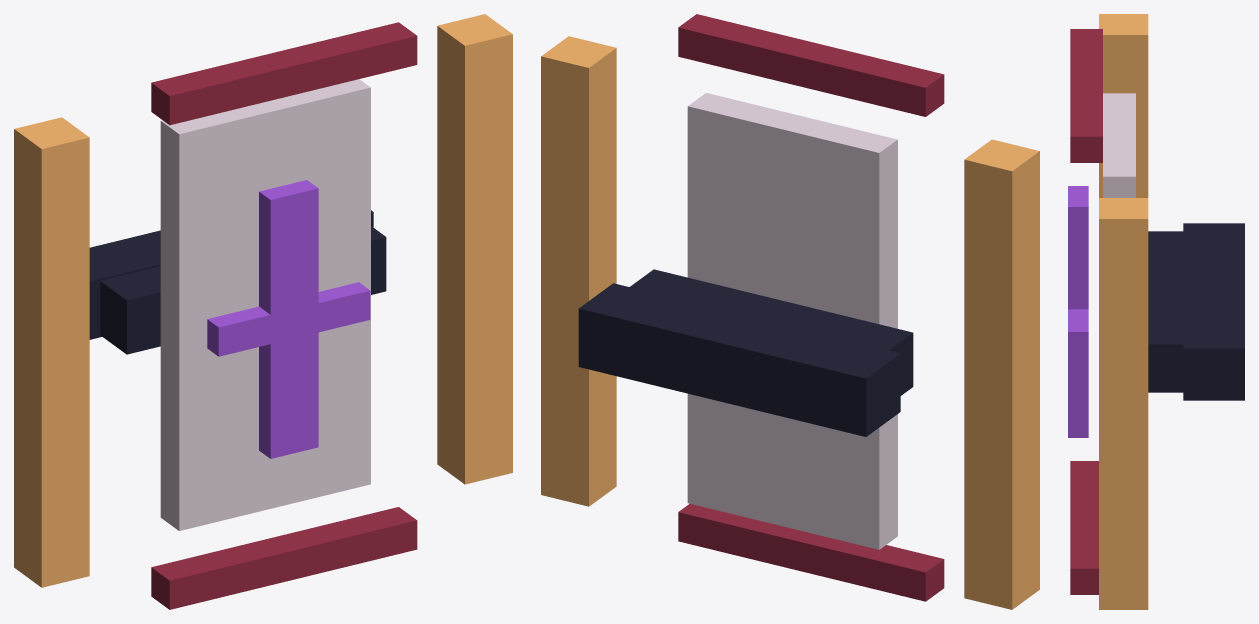
Rendered from KGB_CLASS_OnmyojiScroll_STATIC_DRAFT_v01.obj.
3 views of the same model, side by side, from view 1: azimuth 30°, elevation 25°; view 2: azimuth 150°, elevation 25°; view 3: azimuth 270°, elevation 25° (orthographic). The views are drawn at different scales.
Parts seen in each view (by area): view 1: part_2, part_3, part_4, part_7, part_5, part_6, part_1, part_8, part_9; view 2: part_2, part_3, part_4, part_9, part_5, part_6, part_1; view 3: part_4, part_9, part_1, part_3, part_5, part_7, part_6, part_2, part_8.
Boxes of the visible parts, x1=… form: part_2: x1=160, y1=79, x2=370, y2=530; part_3: x1=14, y1=117, x2=89, y2=587; part_4: x1=437, y1=14, x2=512, y2=484; part_7: x1=259, y1=180, x2=318, y2=458; part_5: x1=151, y1=22, x2=417, y2=125; part_6: x1=151, y1=507, x2=417, y2=609; part_1: x1=100, y1=226, x2=386, y2=354; part_8: x1=207, y1=282, x2=370, y2=356; part_9: x1=89, y1=210, x2=373, y2=339; part_2: x1=687, y1=93, x2=897, y2=549; part_3: x1=964, y1=139, x2=1039, y2=609; part_4: x1=541, y1=36, x2=616, y2=506; part_9: x1=578, y1=283, x2=900, y2=436; part_5: x1=678, y1=14, x2=944, y2=116; part_6: x1=678, y1=504, x2=944, y2=601; part_1: x1=630, y1=269, x2=913, y2=395; part_4: x1=1099, y1=198, x2=1148, y2=609; part_9: x1=1183, y1=223, x2=1244, y2=400; part_1: x1=1148, y1=231, x2=1183, y2=392; part_3: x1=1099, y1=14, x2=1148, y2=197; part_5: x1=1070, y1=29, x2=1102, y2=162; part_7: x1=1068, y1=186, x2=1088, y2=437; part_6: x1=1070, y1=461, x2=1098, y2=594; part_2: x1=1103, y1=93, x2=1135, y2=197; part_8: x1=1068, y1=309, x2=1088, y2=357.
Size of the model in its own units: 1.18 by 1.23 by 0.43.
